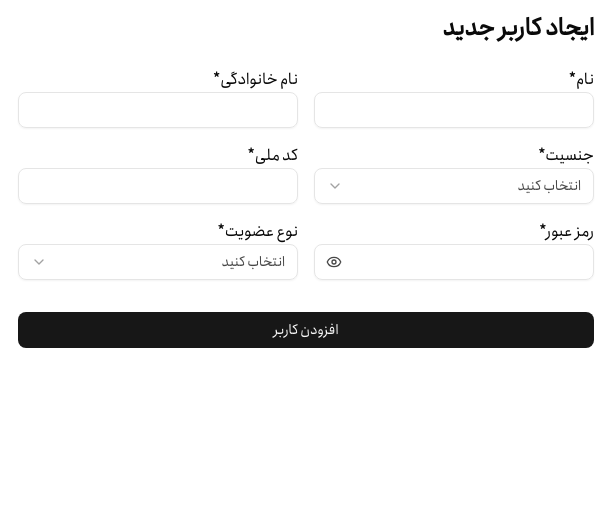
Test: UserCreate › shows the six regular membership types in the requested order
This screenshot has width=611, height=507.
Click the dropdown named "نوع عضویت*" at {"x": 253, "y": 262}, box [18, 244, 298, 280]
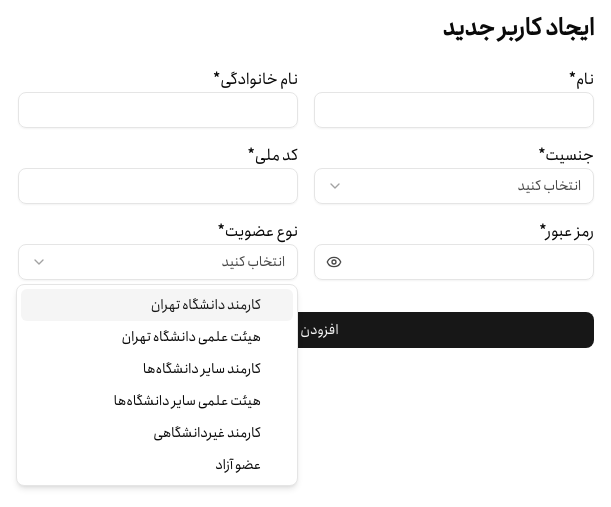
expect the options read "کارمند دانشگاه تهران", "هیئت علمی دانشگاه تهران", "کارمند سایر دانشگاه‌ها", "هیئت علمی سایر دانشگاه‌ها", "کارمند غیردانشگاهی", "عضو آزاد", in this order: met, box [21, 289, 293, 321]; [122, 326, 261, 348]; [143, 358, 261, 380]; [114, 390, 261, 412]; [153, 422, 261, 444]; [215, 454, 261, 476]
